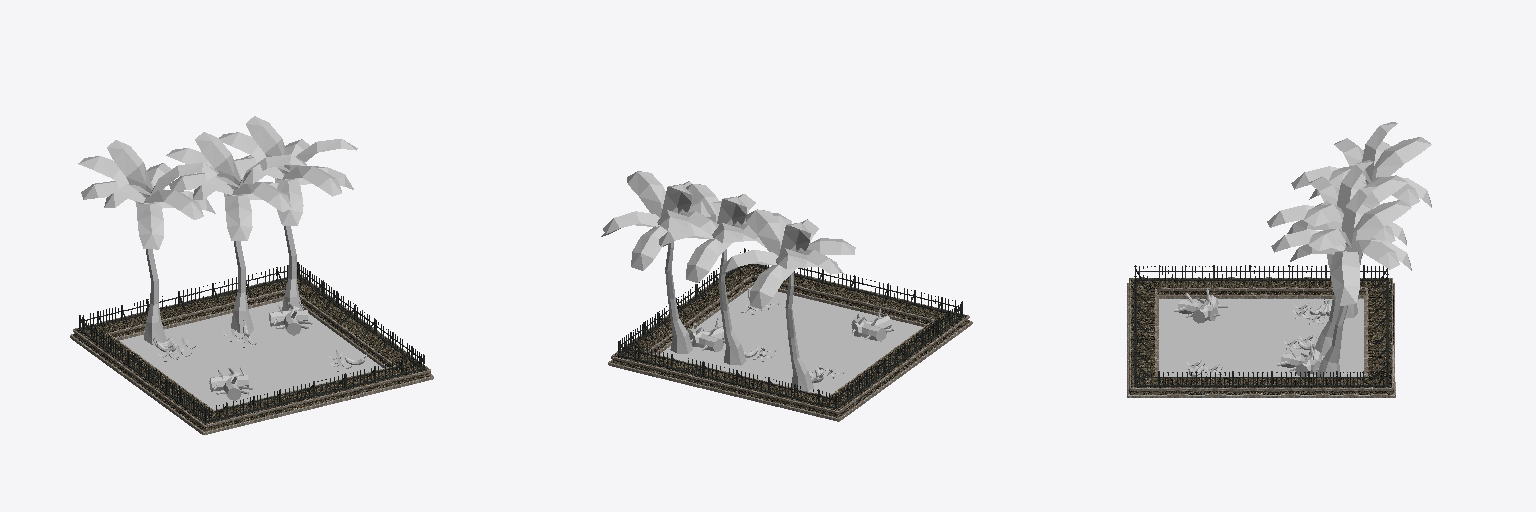
The picture shows the model from 3 angles: view 1: azimuth 30°, elevation 25°; view 2: azimuth 150°, elevation 25°; view 3: azimuth 270°, elevation 25°; orthographic projection.
Visible parts, largest first — view 1: Plane, mesh0_mesh0.004, mesh0_mesh0.006, mesh0_mesh0.002, Wrought_Iron_Fence_Double_022_022.004, Wrought_Iron_Fence_Double_022_022.007, Wrought_Iron_Fence_Double_022_022.001, Wrought_Iron_Fence_Double_022_022.006, Wrought_Iron_Fence_Double_022_022.003, Wrought_Iron_Fence_Double_022_022.002, Wrought_Iron_Fence_Double_022_022, Wrought_Iron_Fence_Double_022_022.009 (+10 smaller); view 2: Plane, mesh0_mesh0.004, mesh0_mesh0.002, mesh0_mesh0.006, Wrought_Iron_Fence_Double_022_022.004, Wrought_Iron_Fence_Double_022_022.007, Wrought_Iron_Fence_Double_022_022.006, Wrought_Iron_Fence_Double_022_022, Wrought_Iron_Fence_Double_022_022.009, Wrought_Iron_Fence_Double_022_022.010, Wrought_Iron_Fence_Double_022_022.008, Wrought_Iron_Fence_Double_022_022.003 (+10 smaller); view 3: Plane, mesh0_mesh0.002, mesh0_mesh0.004, mesh0_mesh0.006, Wrought_Iron_Fence_Double_022_022.010, Wrought_Iron_Fence_Double_022_022.001, Wrought_Iron_Fence_Double_022_022.003, Wrought_Iron_Fence_Double_022_022.011, Wrought_Iron_Fence_Double_022_022.005, Wrought_Iron_Fence_Double_022_022.009, Wrought_Iron_Fence_Double_022_022.004, Wrought_Iron_Fence_Double_022_022.007 (+8 smaller).
Boxes of the visible parts, x1,y1,x2,y2 form: Plane: [120, 301, 383, 409]; mesh0_mesh0.004: [78, 140, 218, 249]; mesh0_mesh0.006: [166, 132, 306, 240]; mesh0_mesh0.002: [219, 116, 357, 225]; Wrought_Iron_Fence_Double_022_022.004: [271, 373, 349, 415]; Wrought_Iron_Fence_Double_022_022.007: [144, 285, 223, 329]; Wrought_Iron_Fence_Double_022_022.001: [316, 291, 378, 345]; Wrought_Iron_Fence_Double_022_022.006: [210, 268, 285, 314]; Wrought_Iron_Fence_Double_022_022.003: [354, 318, 416, 367]; Wrought_Iron_Fence_Double_022_022.002: [336, 359, 406, 399]; Wrought_Iron_Fence_Double_022_022: [217, 389, 284, 428]; Wrought_Iron_Fence_Double_022_022.009: [85, 326, 146, 375]; Plane: [660, 286, 922, 396]; mesh0_mesh0.004: [720, 209, 855, 308]; mesh0_mesh0.002: [601, 171, 721, 270]; mesh0_mesh0.006: [659, 184, 791, 282]; Wrought_Iron_Fence_Double_022_022.004: [810, 269, 889, 314]; Wrought_Iron_Fence_Double_022_022.007: [700, 363, 778, 403]; Wrought_Iron_Fence_Double_022_022.006: [635, 347, 713, 387]; Wrought_Iron_Fence_Double_022_022: [876, 283, 944, 326]; Wrought_Iron_Fence_Double_022_022.009: [830, 358, 892, 409]; Wrought_Iron_Fence_Double_022_022.010: [868, 330, 930, 381]; Wrought_Iron_Fence_Double_022_022.008: [766, 379, 827, 415]; Wrought_Iron_Fence_Double_022_022.003: [691, 268, 752, 312]; Plane: [1159, 299, 1363, 376]; mesh0_mesh0.002: [1271, 184, 1411, 305]; mesh0_mesh0.004: [1291, 122, 1431, 239]; mesh0_mesh0.006: [1267, 160, 1407, 270]; Wrought_Iron_Fence_Double_022_022.010: [1212, 265, 1287, 298]; Wrought_Iron_Fence_Double_022_022.001: [1234, 371, 1309, 397]; Wrought_Iron_Fence_Double_022_022.003: [1159, 371, 1233, 397]; Wrought_Iron_Fence_Double_022_022.011: [1159, 265, 1212, 298]; Wrought_Iron_Fence_Double_022_022.005: [1310, 371, 1363, 397]; Wrought_Iron_Fence_Double_022_022.009: [1288, 265, 1363, 298]; Wrought_Iron_Fence_Double_022_022.004: [1127, 304, 1158, 353]; Wrought_Iron_Fence_Double_022_022.007: [1364, 298, 1394, 349].
Size of the model in its own units: 2.36 by 1.63 by 2.42.
25 materials, 3 textured.